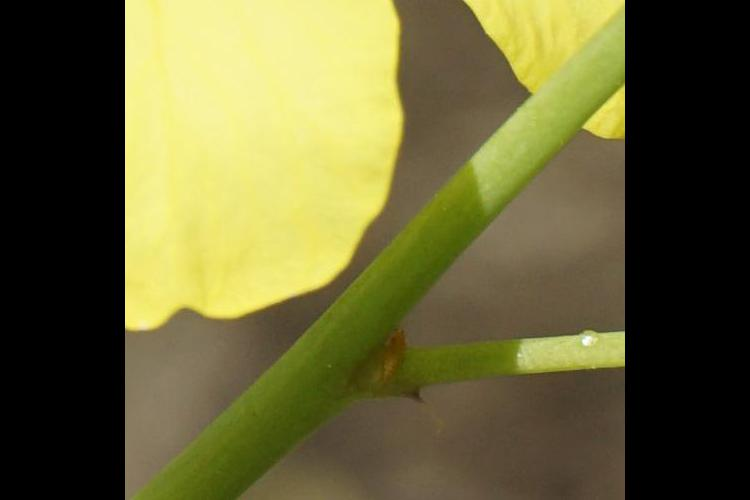yellow: (135, 1, 397, 318), (359, 1, 621, 149)
